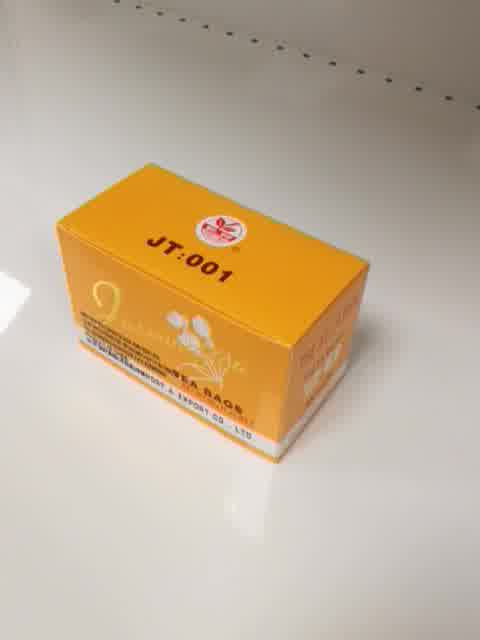jasminetea: (54, 158, 375, 465)
